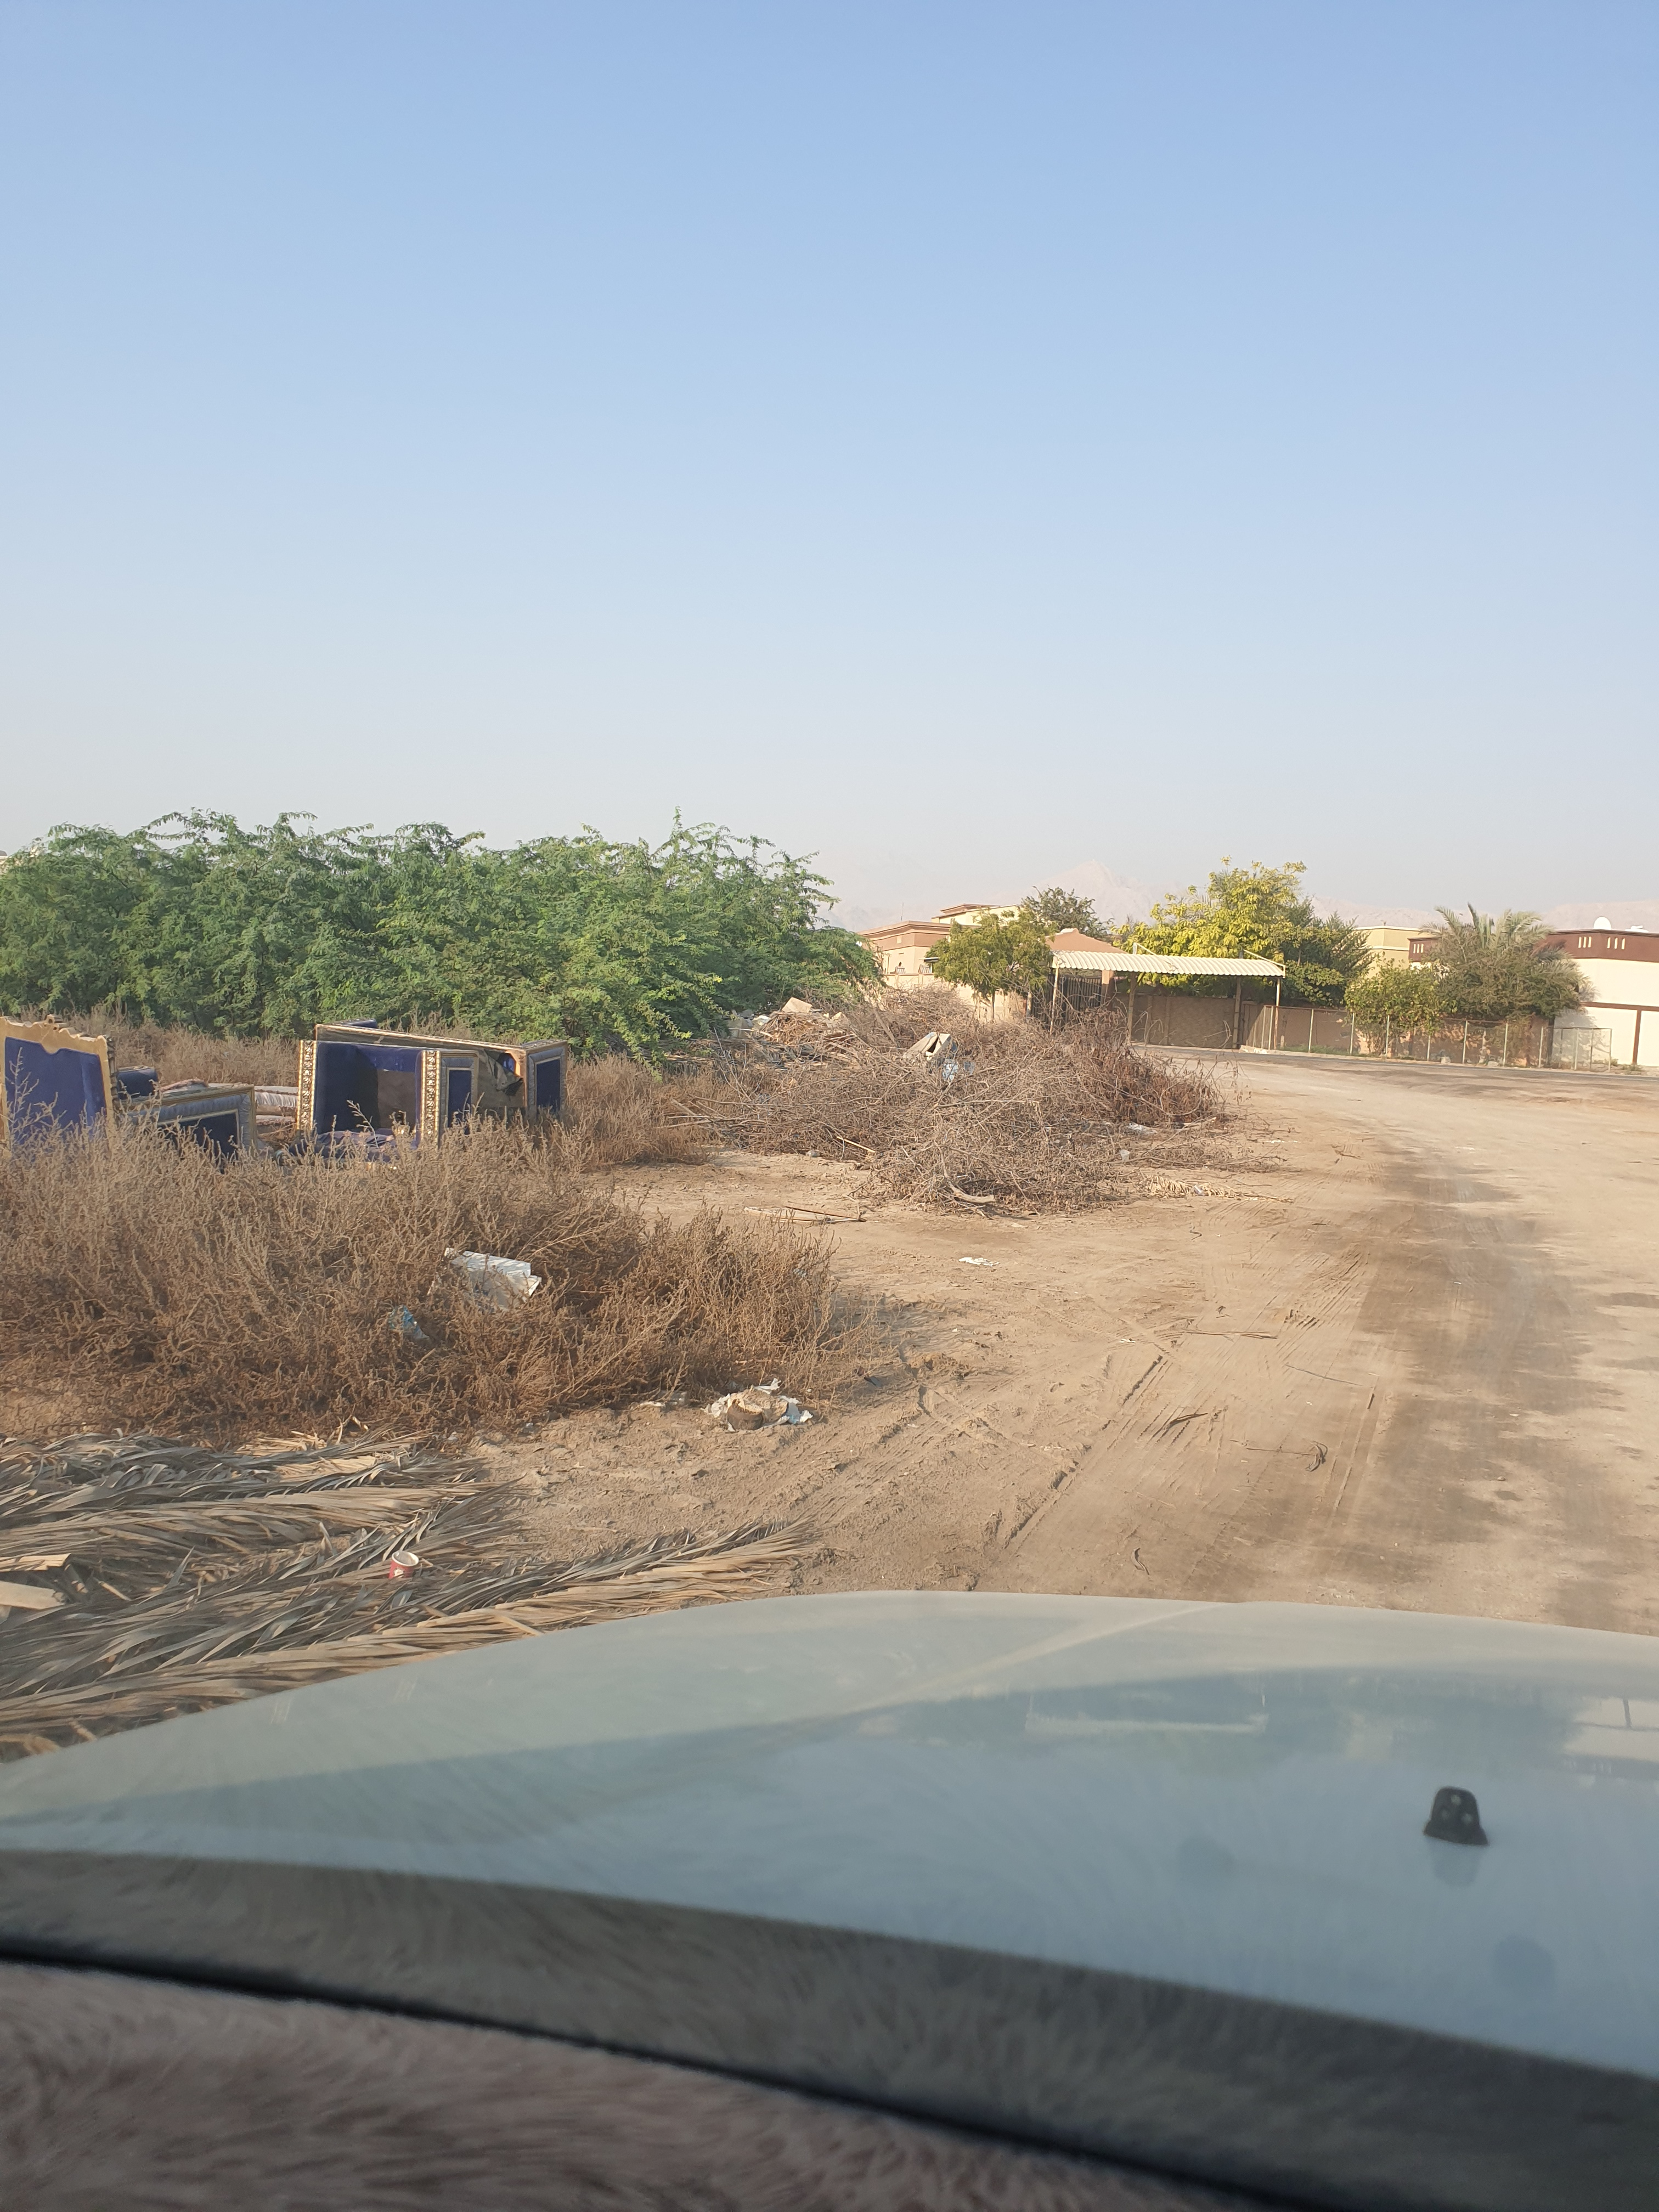fallen_trees: (819, 1141, 1066, 1237), (1127, 1169, 1288, 1209)
uncollected_waste: (282, 1014, 598, 1179)
